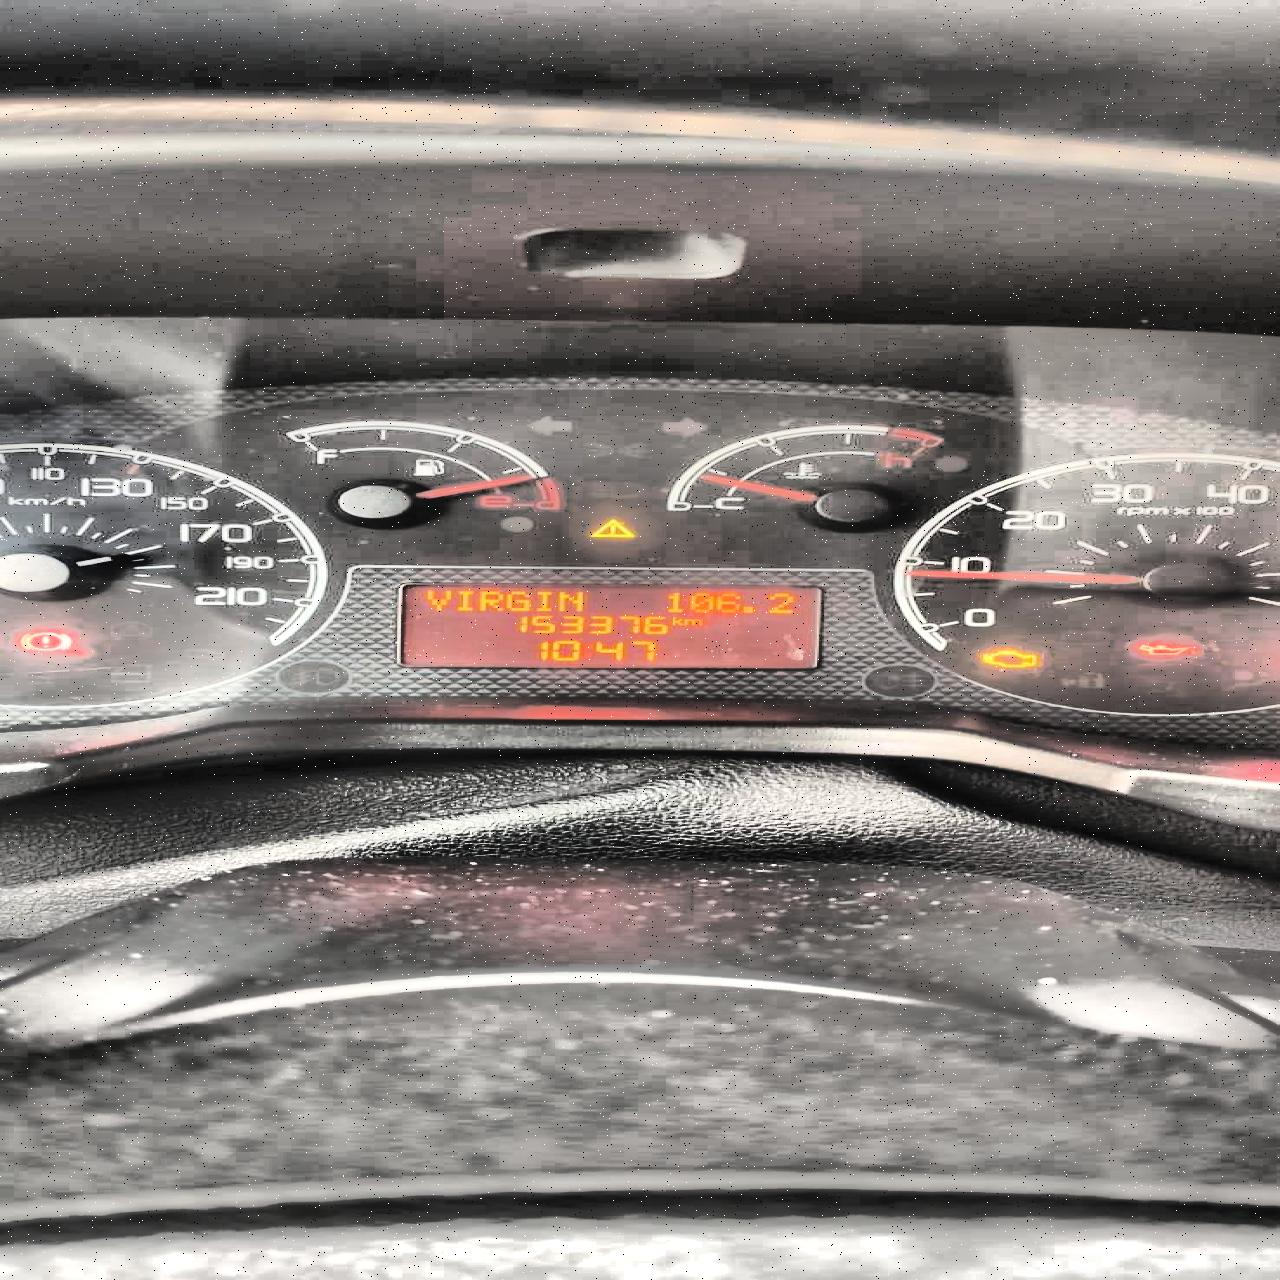-: (741, 605, 755, 614)
0: (550, 639, 578, 661), (688, 591, 713, 613)
1: (665, 591, 682, 613), (535, 639, 549, 661), (517, 614, 527, 633)
2: (764, 591, 795, 615)
3: (586, 613, 612, 633), (560, 613, 583, 633)
4: (593, 640, 622, 660)
5: (531, 614, 553, 633)
6: (714, 591, 738, 613), (641, 614, 666, 635)
7: (629, 639, 658, 661), (618, 613, 640, 633)
X: (556, 590, 585, 612), (475, 588, 501, 612), (423, 588, 451, 610), (504, 590, 532, 611), (456, 588, 471, 612), (535, 588, 550, 612), (579, 641, 592, 659), (681, 618, 702, 626), (669, 615, 681, 626)
odometer: (392, 576, 829, 676)
